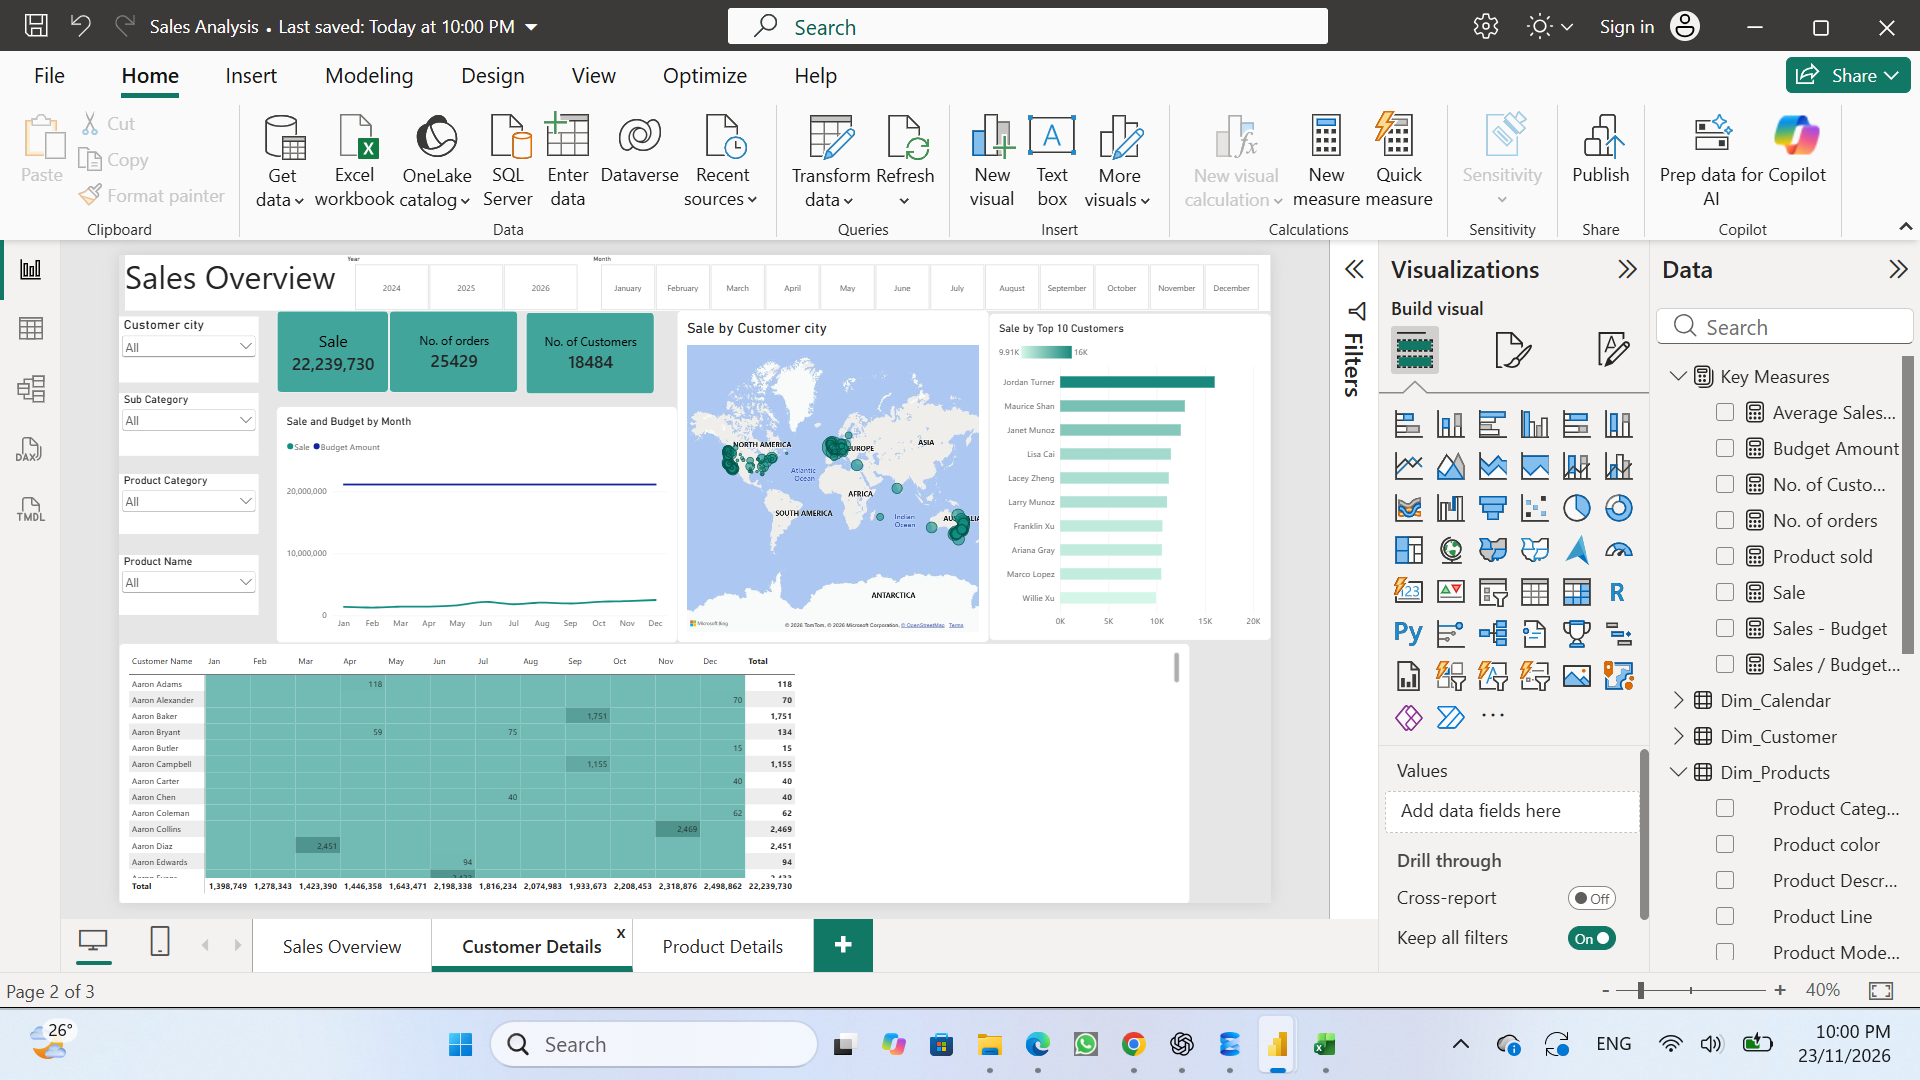

The page's visual inventory and layout, read from the dashboard file:
{"tool":"powerbi","page":{"name":"Customer Details","canvas":[1920,1080],"ordinal":1},"visuals":[{"type":"textbox","box":[10,0,280,280],"z":0},{"type":"textbox","box":[10,0,1884.2,92.5],"z":1000},{"type":"slicer","fields":{"Values":["Dim_Customer.Customer city"]},"box":[0,102.5,232.4,110],"z":2000},{"type":"slicer","fields":{"Values":["Dim_Products.Sub Category"]},"box":[0,229.9,232.4,105],"z":3000},{"type":"slicer","fields":{"Values":["Dim_Products.Product Category"]},"box":[0,364.8,232.4,100],"z":4000},{"type":"slicer","fields":{"Values":["Dim_Products.Product Name"]},"box":[0,499.8,232.4,100],"z":5000},{"type":"slicer","fields":{"Values":["Dim_Calendar.Year"]},"box":[372.2,0,410.4,93.1],"z":6000},{"type":"slicer","fields":{"Values":["Dim_Calendar.Month"]},"box":[782.6,0,1135.7,93.1],"z":7000},{"type":"lineChart","title":"Sale and Budget by Month","fields":{"Category":["Dim_Calendar.Monthshort"],"Y":["Key Measures.Sale","Key Measures.Budget Amount"]},"box":[262.5,252.9,668.1,393.7],"z":11000},{"type":"barChart","title":"Sale by Top 10 Customers","fields":{"Category":["Dim_Customer.FullName"],"Y":["Key Measures.Sale"]},"box":[1450.6,97.8,469.8,544.8],"z":12000},{"type":"map","title":"Sale by Customer city","fields":{"Category":["Dim_Customer.Customer city"],"Size":["Key Measures.Sale"]},"box":[930.5,93.1,520.1,553.5],"z":13000},{"type":"pivotTable","fields":{"Columns":["Dim_Calendar.Monthshort"],"Rows":["Dim_Customer.FullName"],"Values":["Key Measures.Sale"]},"box":[0,646.6,1784.7,434.2],"z":14000},{"type":"cardVisual","fields":{"Data":["Key Measures.Sale"]},"box":[262.5,92.5,187.5,137.5],"z":14001},{"type":"cardVisual","fields":{"Data":["Key Measures.No. of orders"]},"box":[450,92.5,215,137.5],"z":14002},{"type":"cardVisual","fields":{"Data":["Key Measures.No. of Customers"]},"box":[677.5,95,215,137.5],"z":14003}]}

Visuals, with their boxes on the page's 1920x1080 design canvas (x1, y1, x2, y2). These are canvas units, not pixel positions in the 1920x1080 screenshot, which may show the page scaled, cropped or inside an application window:
textbox: l=10, t=0, r=290, b=280
textbox: l=10, t=0, r=1894, b=92
slicer - Dim_Customer.Customer city: l=0, t=102, r=232, b=212
slicer - Dim_Products.Sub Category: l=0, t=230, r=232, b=335
slicer - Dim_Products.Product Category: l=0, t=365, r=232, b=465
slicer - Dim_Products.Product Name: l=0, t=500, r=232, b=600
slicer - Dim_Calendar.Year: l=372, t=0, r=783, b=93
slicer - Dim_Calendar.Month: l=783, t=0, r=1918, b=93
"Sale and Budget by Month" lineChart: l=262, t=253, r=931, b=647
"Sale by Top 10 Customers" barChart: l=1451, t=98, r=1920, b=643
"Sale by Customer city" map: l=930, t=93, r=1451, b=647
pivotTable - Dim_Calendar.Monthshort x Dim_Customer.FullName: l=0, t=647, r=1785, b=1081
cardVisual - Key Measures.Sale: l=262, t=92, r=450, b=230
cardVisual - Key Measures.No. of orders: l=450, t=92, r=665, b=230
cardVisual - Key Measures.No. of Customers: l=678, t=95, r=892, b=232
